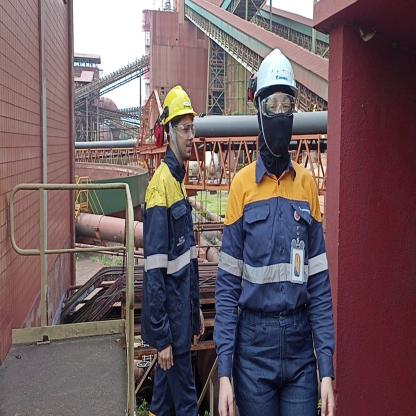Balaclava: (254, 89, 295, 173)
Capacete: (248, 46, 303, 94), (159, 84, 195, 121)
Operacional: (215, 158, 332, 378)
